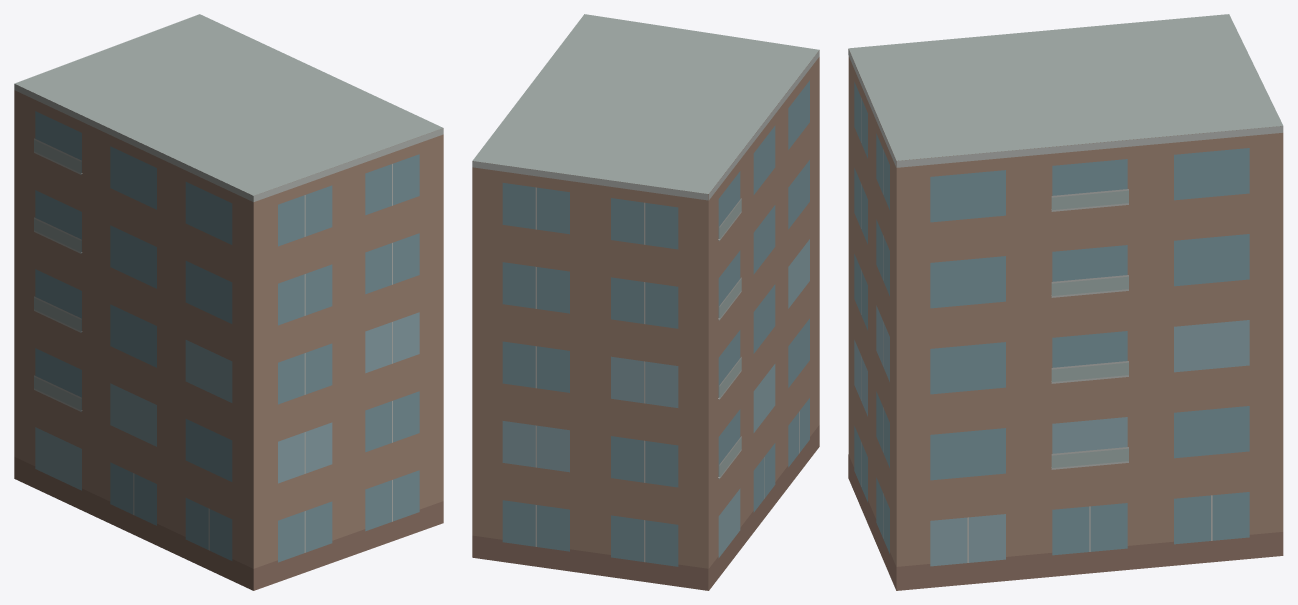
File: survey-upis-32847390.glb
The picture shows the model from 3 angles, left to right: view 1: azimuth 30°, elevation 25°; view 2: azimuth 150°, elevation 25°; view 3: azimuth 270°, elevation 25°; orthographic projection. The views are drawn at different scales.
Parts seen in each view (by area): view 1: survey-upis-32847390.tmp; view 2: survey-upis-32847390.tmp; view 3: survey-upis-32847390.tmp.
Part boxes in pixels (x1,y1,x2,y2): survey-upis-32847390.tmp: [14, 14, 443, 590]; survey-upis-32847390.tmp: [472, 14, 819, 590]; survey-upis-32847390.tmp: [848, 14, 1283, 590].
Size of the model in its own units: 11.08 by 15.1 by 13.85.
